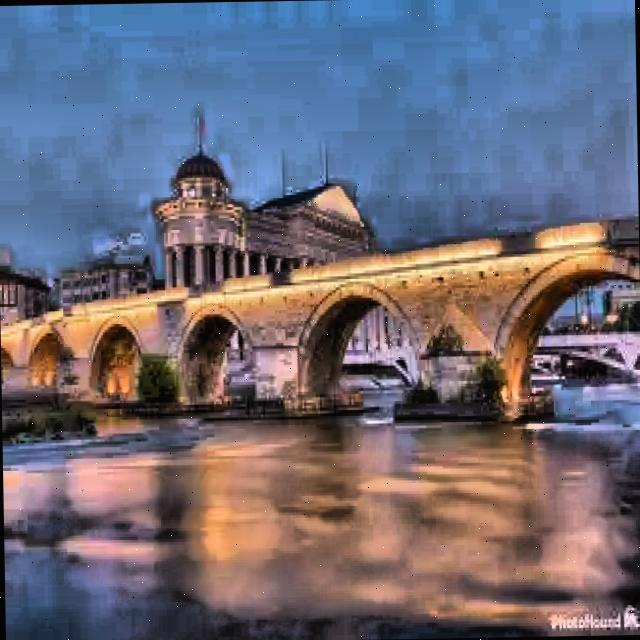stone bridge: (4, 213, 640, 446)
